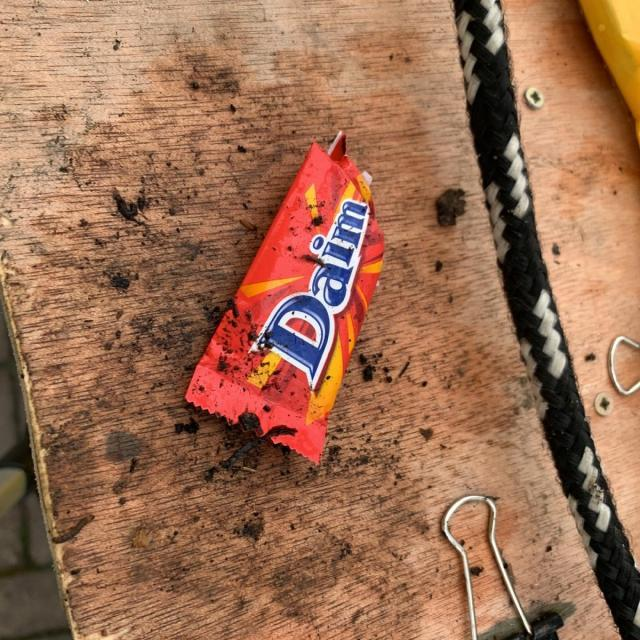Plastic: (180, 126, 389, 466)
